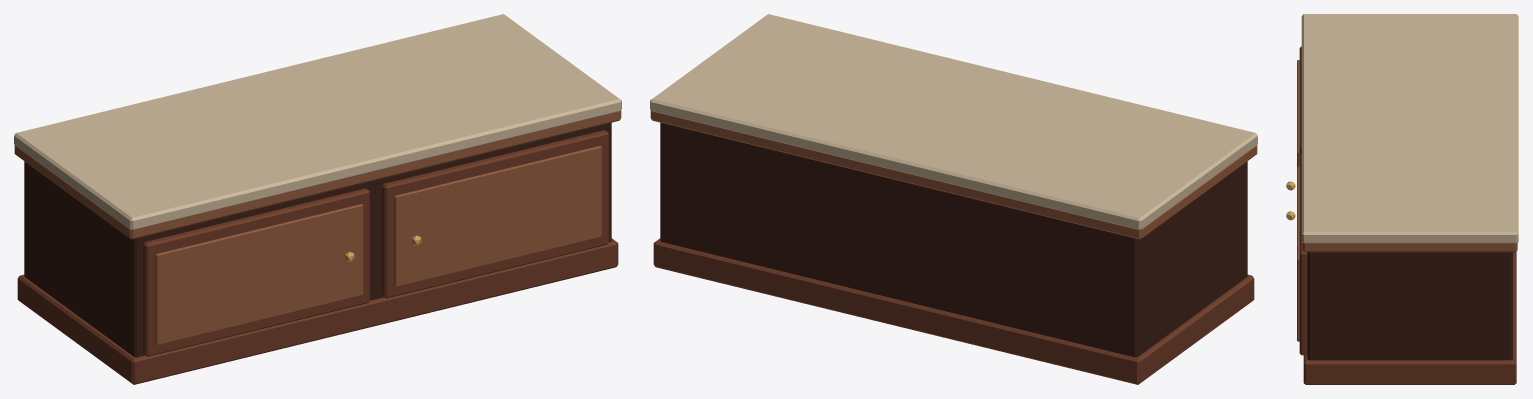
The model's file is work_counter_01.glb.
3 views of the same model, side by side, from view 1: azimuth 30°, elevation 25°; view 2: azimuth 150°, elevation 25°; view 3: azimuth 270°, elevation 25° (orthographic). The views are drawn at different scales.
Parts seen in each view (by area): view 1: Worktop, Inset_00, Inset_01, Body, Plinth, Front_00, Front_01, Top; view 2: Body, Worktop, Plinth, Top; view 3: Worktop, Body, Plinth, Top, Front_01, Inset_01, Front_00, Inset_00.
Part boxes in pixels (x1,y1,x2,y2): Worktop: (14, 14, 621, 229); Inset_00: (155, 204, 363, 345); Inset_01: (394, 145, 601, 286); Body: (24, 122, 611, 357); Plinth: (17, 238, 618, 384); Front_00: (143, 188, 369, 356); Front_01: (382, 130, 608, 298); Top: (14, 110, 621, 239); Body: (660, 122, 1247, 357); Worktop: (650, 14, 1257, 229); Plinth: (653, 238, 1254, 384); Top: (650, 110, 1257, 239); Worktop: (1301, 14, 1518, 242); Body: (1307, 252, 1512, 360); Plinth: (1303, 251, 1516, 384); Top: (1302, 242, 1517, 252); Front_01: (1299, 153, 1307, 355); Inset_01: (1297, 166, 1299, 341); Front_00: (1299, 46, 1301, 154); Inset_00: (1297, 60, 1299, 167).
Size of the model in its own units: 2.78 by 0.91 by 1.24.
